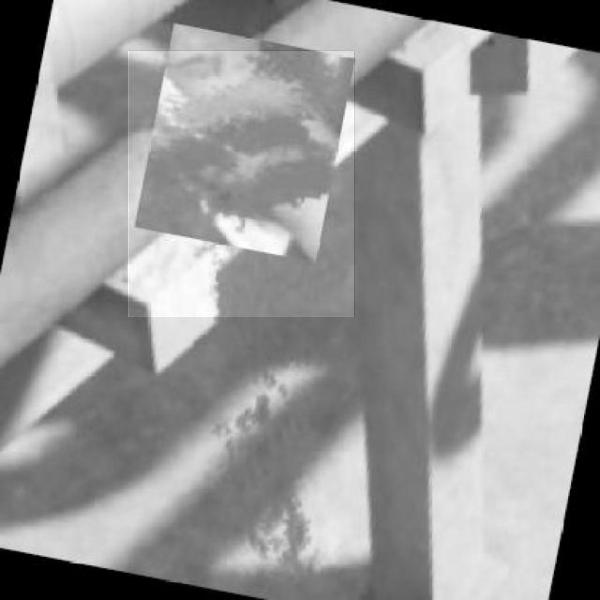gas: (128, 51, 354, 317)
